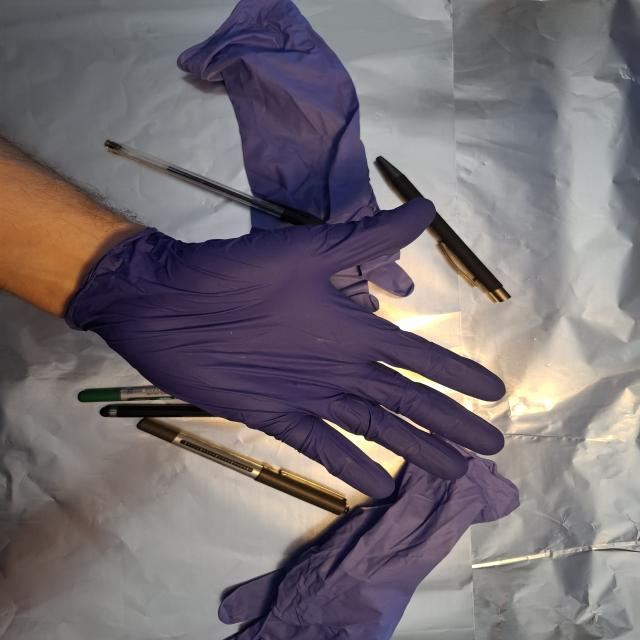glove_on: (65, 193, 513, 504)
